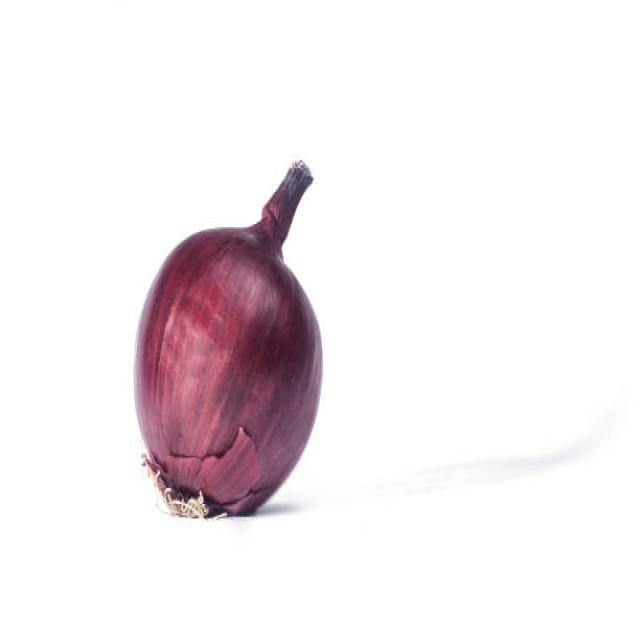onion: (126, 214, 326, 518)
